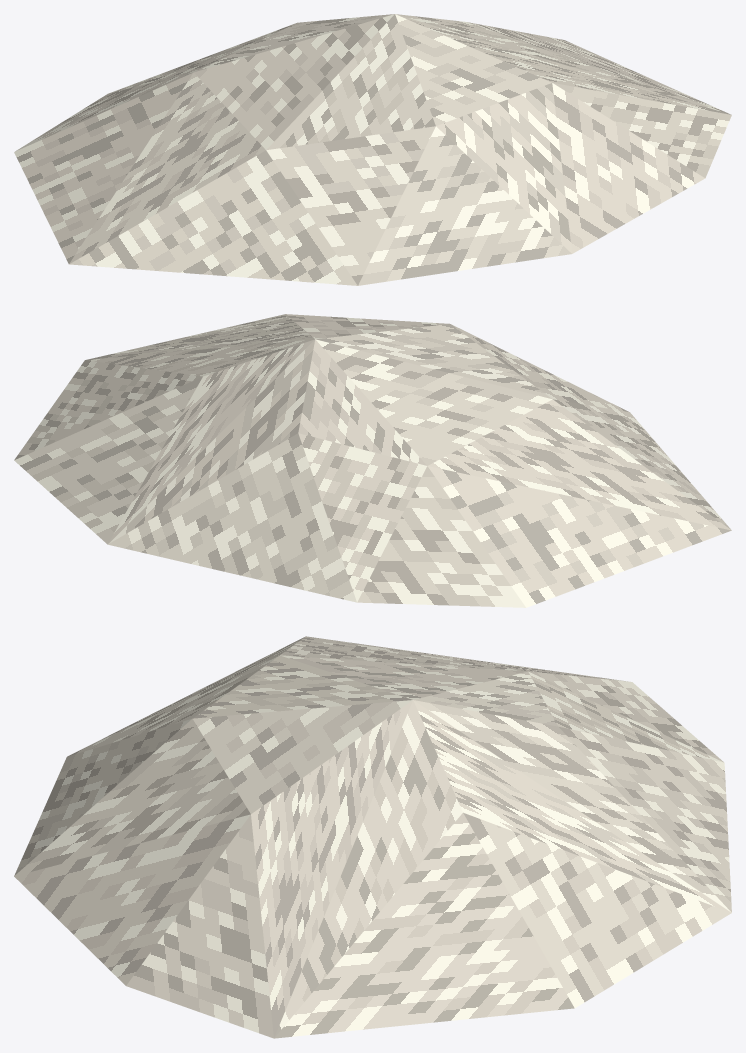
The model's file is chem_borax.glb.
The picture shows the model from 3 angles, top to bottom: view 1: azimuth 30°, elevation 25°; view 2: azimuth 150°, elevation 25°; view 3: azimuth 270°, elevation 25°; orthographic projection. The views are drawn at different scales.
Parts seen in each view (by area): view 1: block_loose material; view 2: block_loose material; view 3: block_loose material.
Boxes of the visible parts, x1=… form: block_loose material: x1=14, y1=14, x2=731, y2=285; block_loose material: x1=14, y1=314, x2=731, y2=607; block_loose material: x1=14, y1=636, x2=731, y2=1038.
Size of the model in its own units: 0.0239 by 0.00456 by 0.0181.
1 material, 1 textured.
